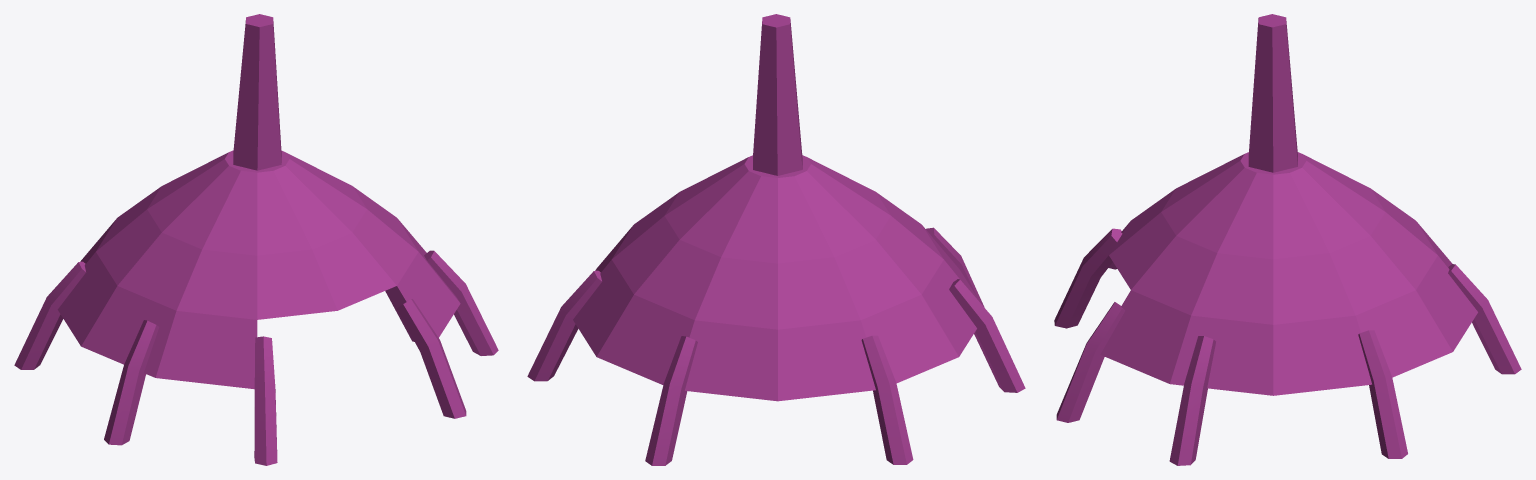
File: SM_Bld_Workshop_01_Collision.fbx
The picture shows the model from 3 angles, left to right: view 1: azimuth 30°, elevation 25°; view 2: azimuth 150°, elevation 25°; view 3: azimuth 270°, elevation 25°; orthographic projection. The views are drawn at different scales.
Visible parts, largest first — view 1: SM_Bld_Workshop_01_Collision; view 2: SM_Bld_Workshop_01_Collision; view 3: SM_Bld_Workshop_01_Collision.
Boxes of the visible parts, <box> form: SM_Bld_Workshop_01_Collision: <box>14,14,498,465</box>; SM_Bld_Workshop_01_Collision: <box>527,14,1025,465</box>; SM_Bld_Workshop_01_Collision: <box>1054,14,1521,465</box>.
Bounding box in the file's own units: 1373 × 1155 × 1401.
